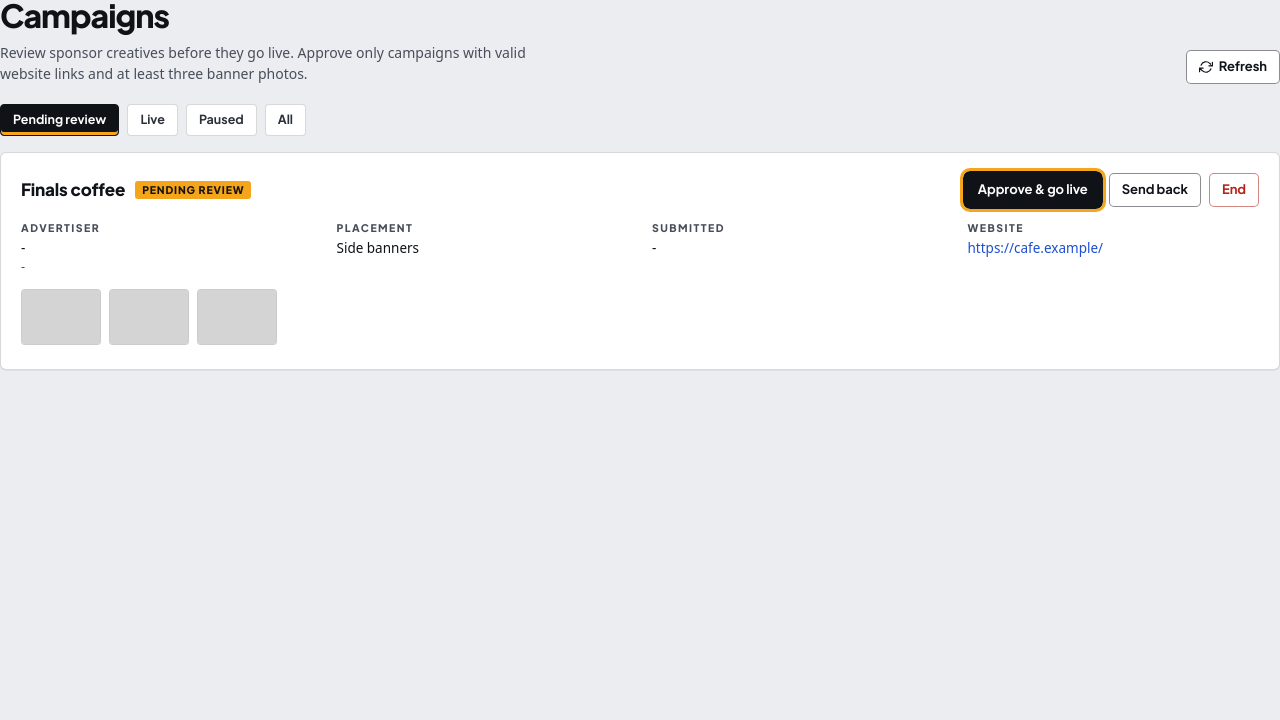
Test: AdminCampaigns focus › puts focus on the campaign card after an approval removes the Approve button
This screenshot has width=1280, height=720.
Click the button "Approve & go live". click: coordinates (1033, 190)
box: top-left (965, 173), bottom-right (1101, 207)
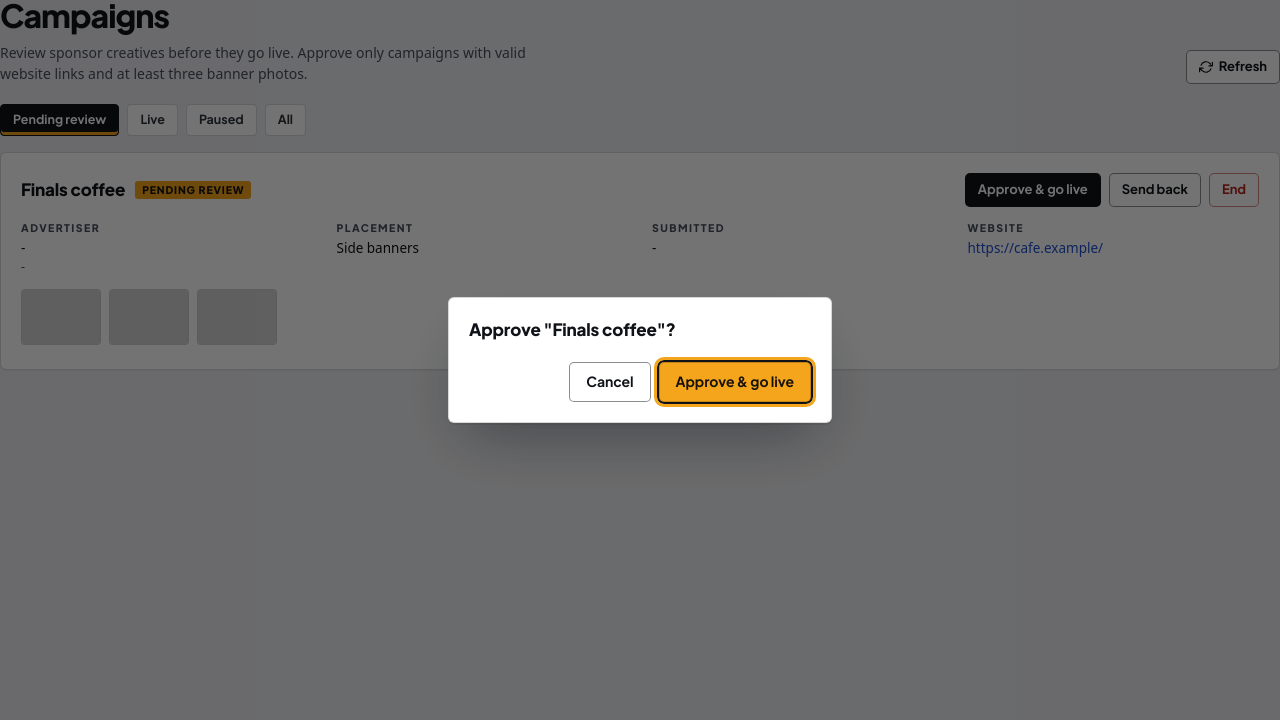
Click the button "Approve & go live". click: coordinates (735, 382)
box: top-left (659, 362), bottom-right (811, 402)
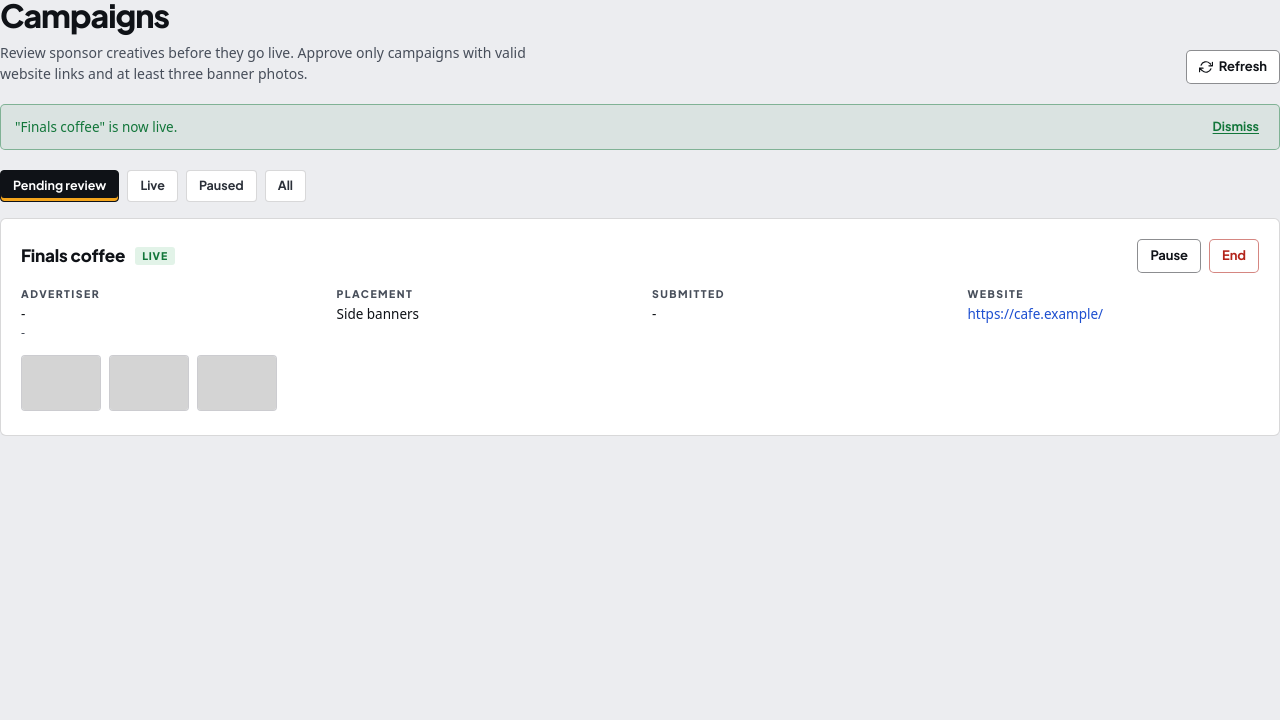
Now the button "Approve & go live" is gone
